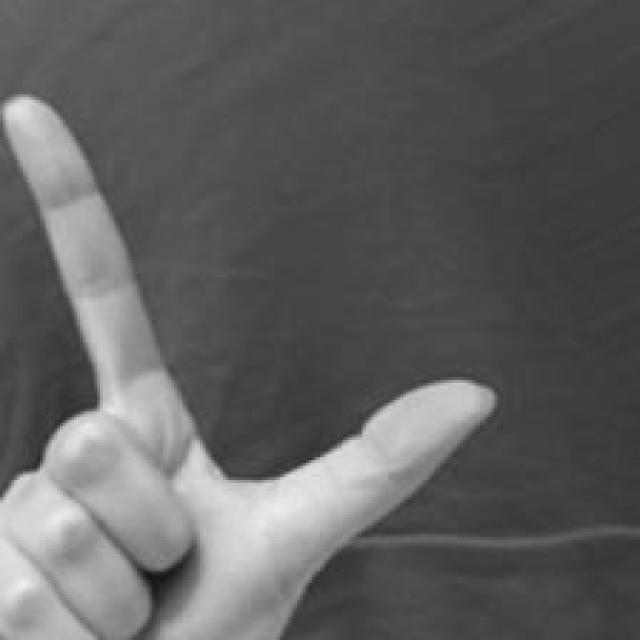L: (0, 80, 501, 640)
